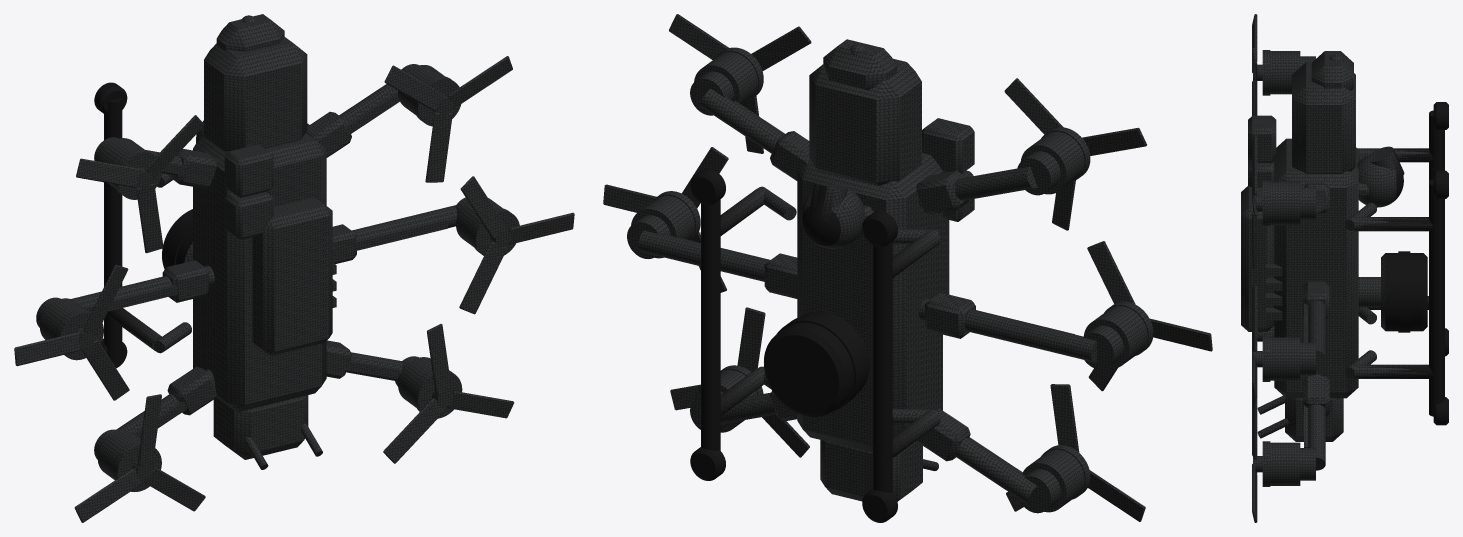
The model's file is hexa_tex.obj.
3 renders of one model, left to right at view 1: azimuth 30°, elevation 25°; view 2: azimuth 150°, elevation 25°; view 3: azimuth 270°, elevation 25°, orthographic. The views are drawn at different scales.
Visible parts, largest first — view 1: carbon, gear; view 2: carbon, gear; view 3: carbon, gear.
Boxes of the visible parts, x1,y1,x2,y2 form: carbon: (14,14,574,522); gear: (94,82,308,368); carbon: (603,14,1212,521); gear: (690,168,937,522); carbon: (1241,14,1432,522); gear: (1356,102,1448,425).
Bounding box in the file's own units: 1.33 × 0.9925 × 0.4787.
Materials: 2 (1 with a texture image).
